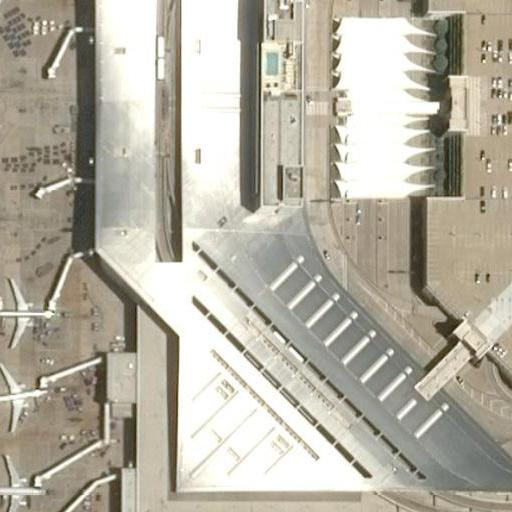Aircraft: (0, 275, 53, 352), (0, 364, 48, 432), (0, 452, 47, 512)
